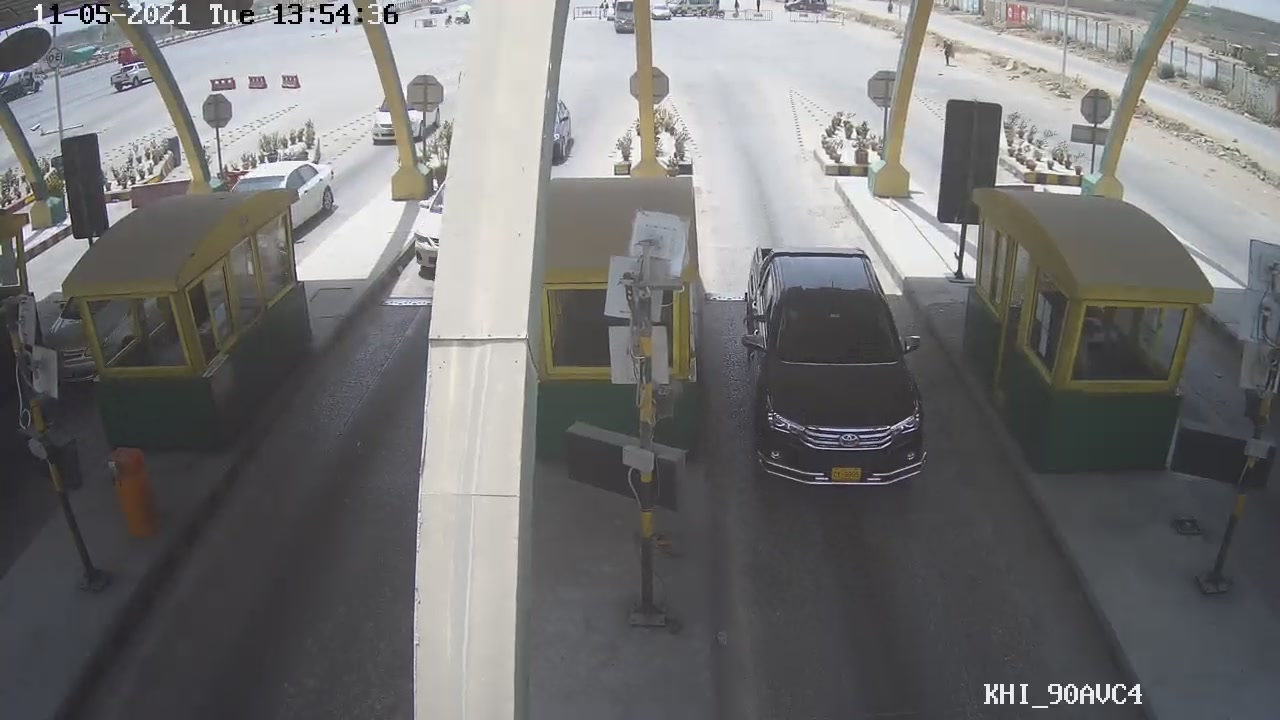F1: (737, 240, 937, 495)
